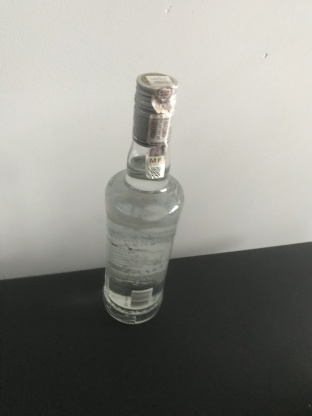nakretka: (130, 70, 180, 147)
